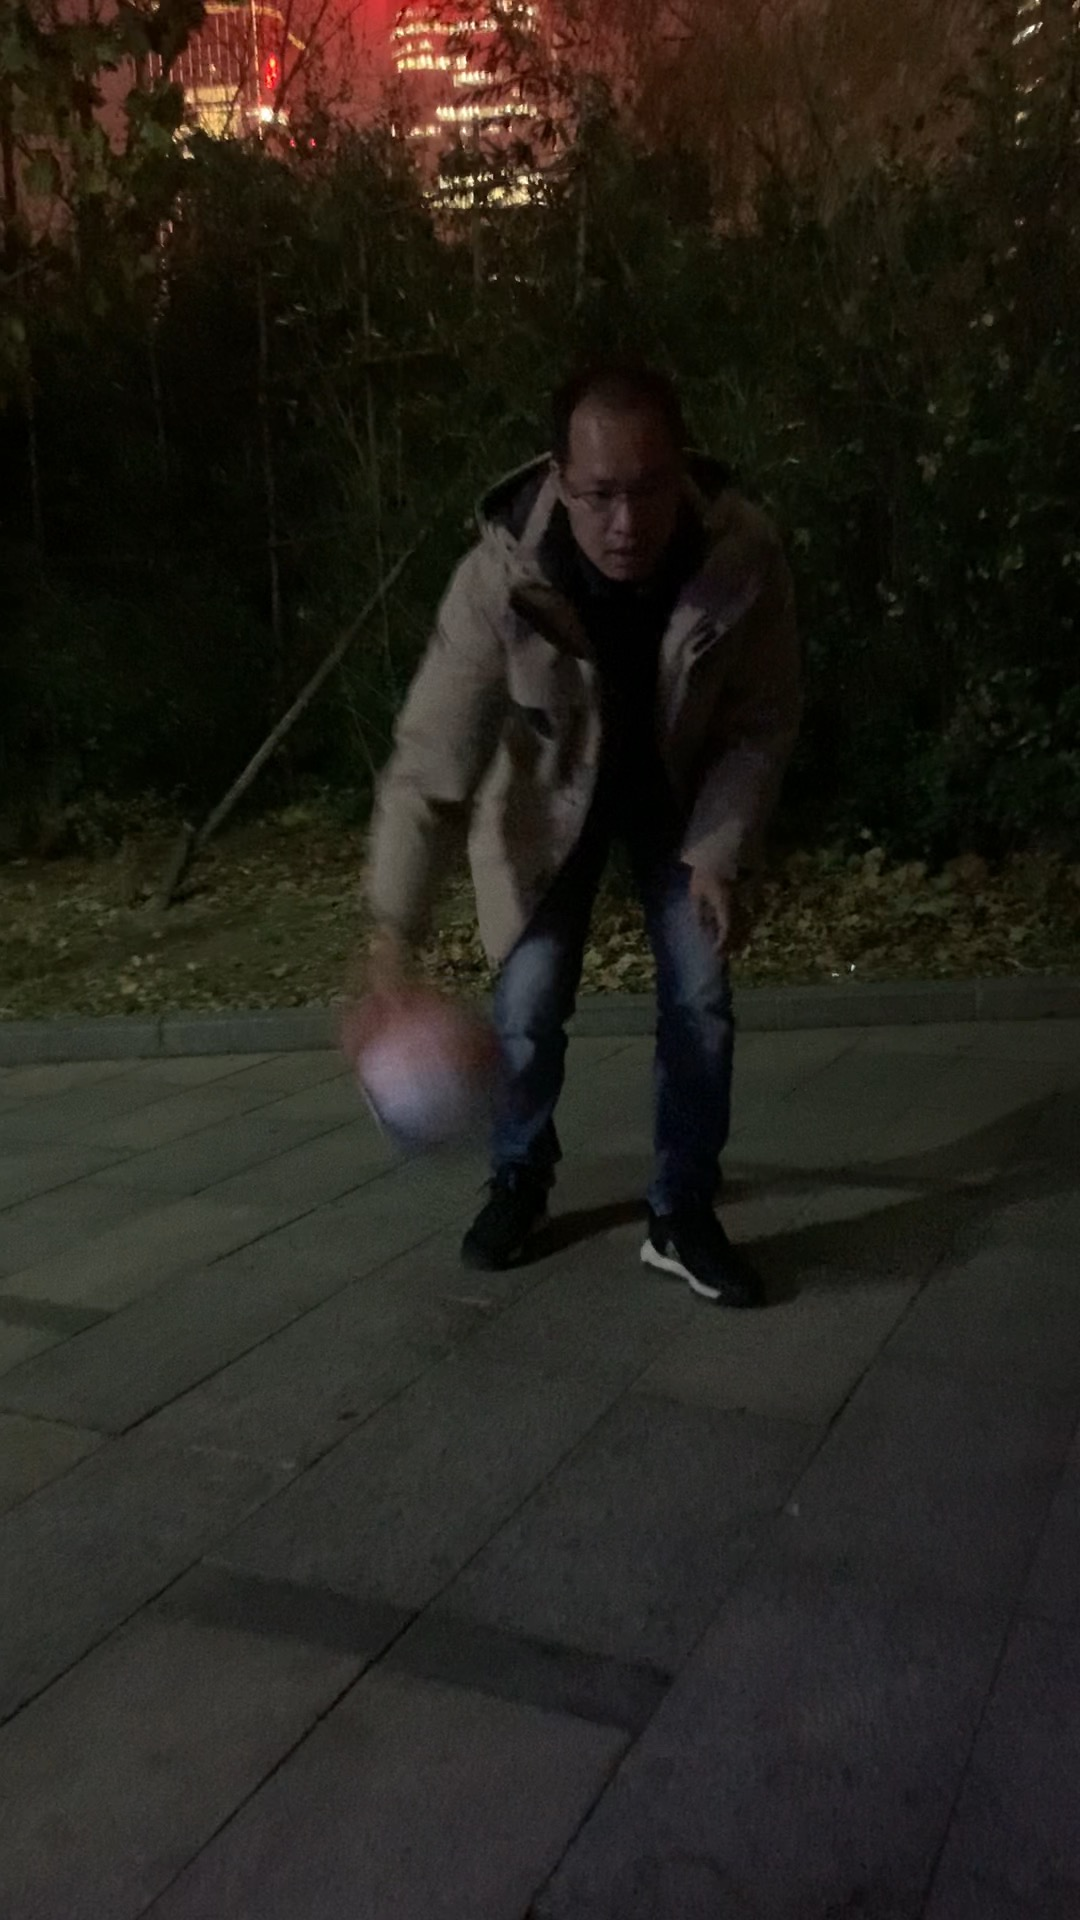ball: (345, 990, 522, 1168)
